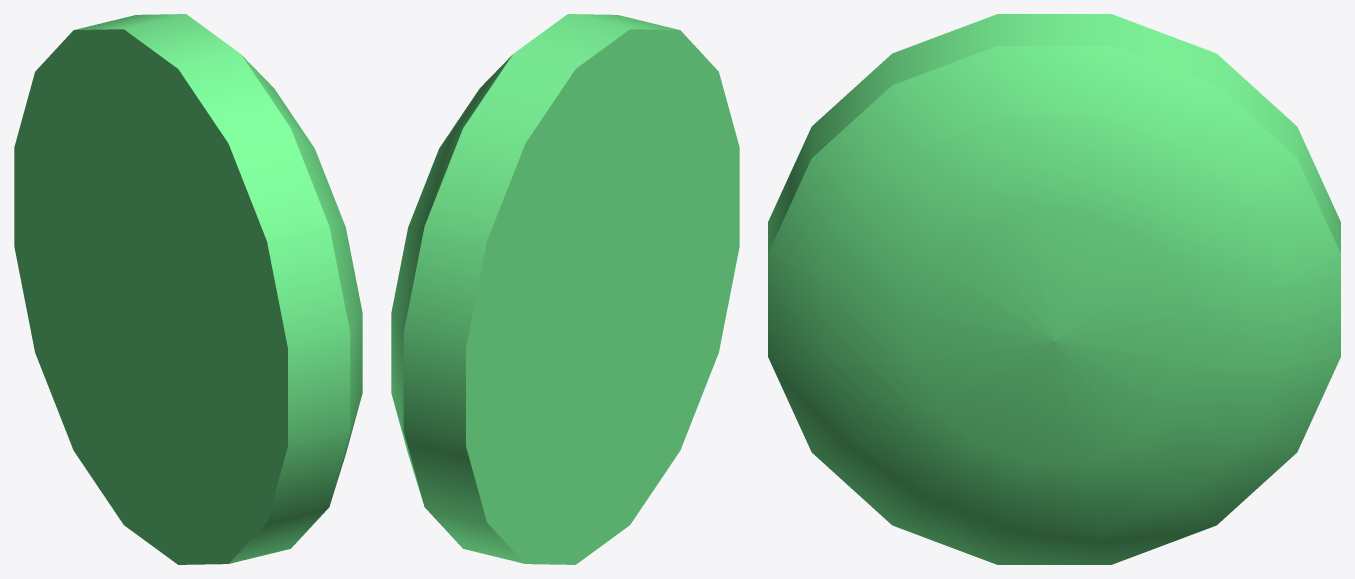
The model's file is lamp_run.obj.
The picture shows the model from 3 angles, left to right: view 1: azimuth 30°, elevation 25°; view 2: azimuth 150°, elevation 25°; view 3: azimuth 270°, elevation 25°; orthographic projection. The views are drawn at different scales.
Visible parts, largest first — view 1: lamp_run_lens; view 2: lamp_run_lens; view 3: lamp_run_lens.
Boxes of the visible parts, x1=… form: lamp_run_lens: x1=14, y1=14, x2=362, y2=564; lamp_run_lens: x1=391, y1=14, x2=739, y2=564; lamp_run_lens: x1=768, y1=14, x2=1340, y2=564.
Bounding box in the file's own units: 0.0212 × 0.076 × 0.076.
